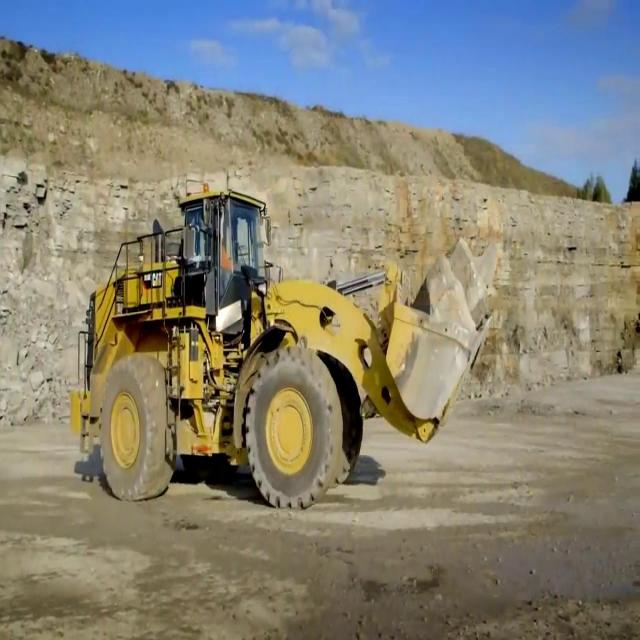Loader: (67, 164, 494, 508)
